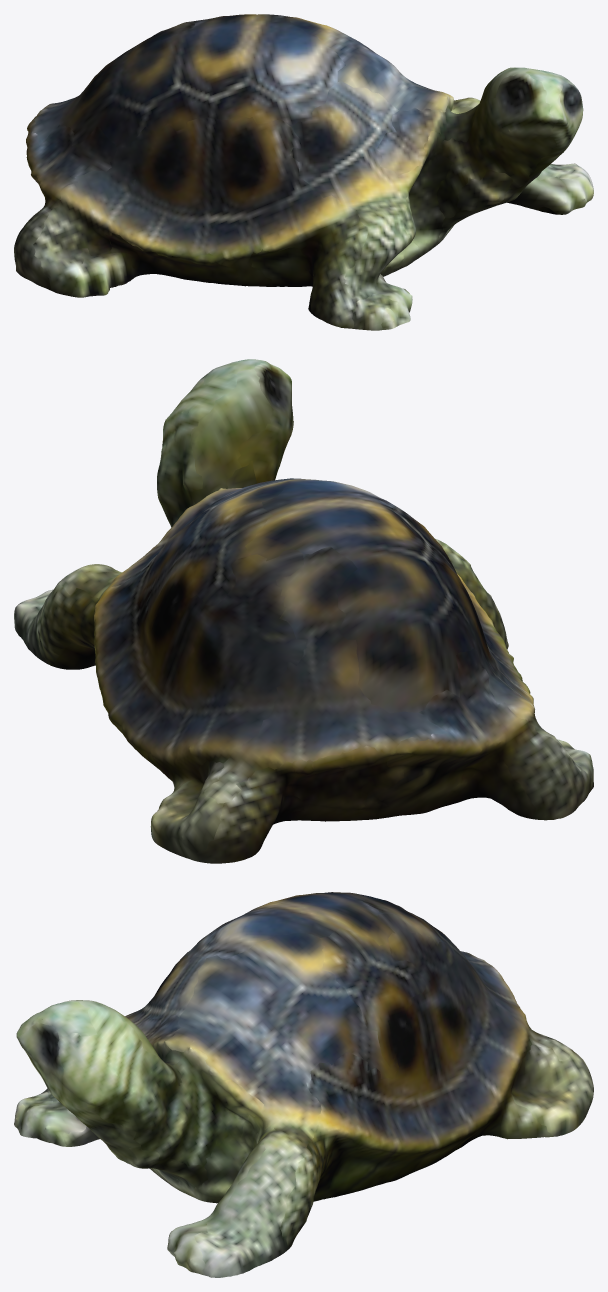
The model's file is turtle.glb.
The picture shows the model from 3 angles, top to bottom: view 1: azimuth 30°, elevation 25°; view 2: azimuth 150°, elevation 25°; view 3: azimuth 270°, elevation 25°; orthographic projection. The views are drawn at different scales.
Parts seen in each view (by area): view 1: Object_2; view 2: Object_2; view 3: Object_2.
Part boxes in pixels (x1,y1,x2,y2): Object_2: [14, 14, 593, 330]; Object_2: [14, 359, 593, 863]; Object_2: [14, 892, 593, 1277].
Size of the model in its own units: 0.1452 by 0.0533 by 0.131.
1 material, 1 textured.
